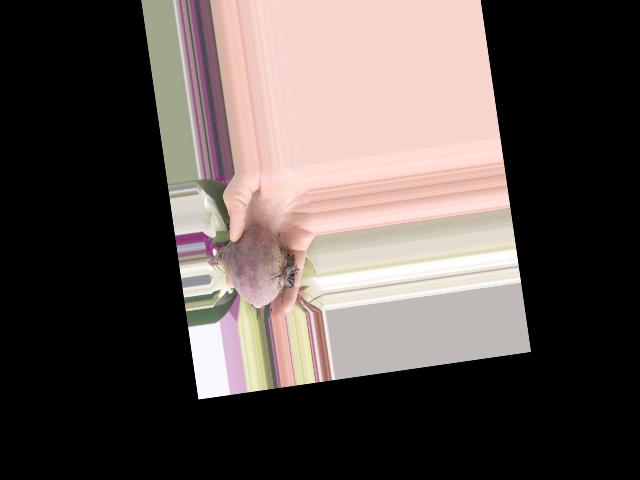beet: (203, 221, 304, 313)
